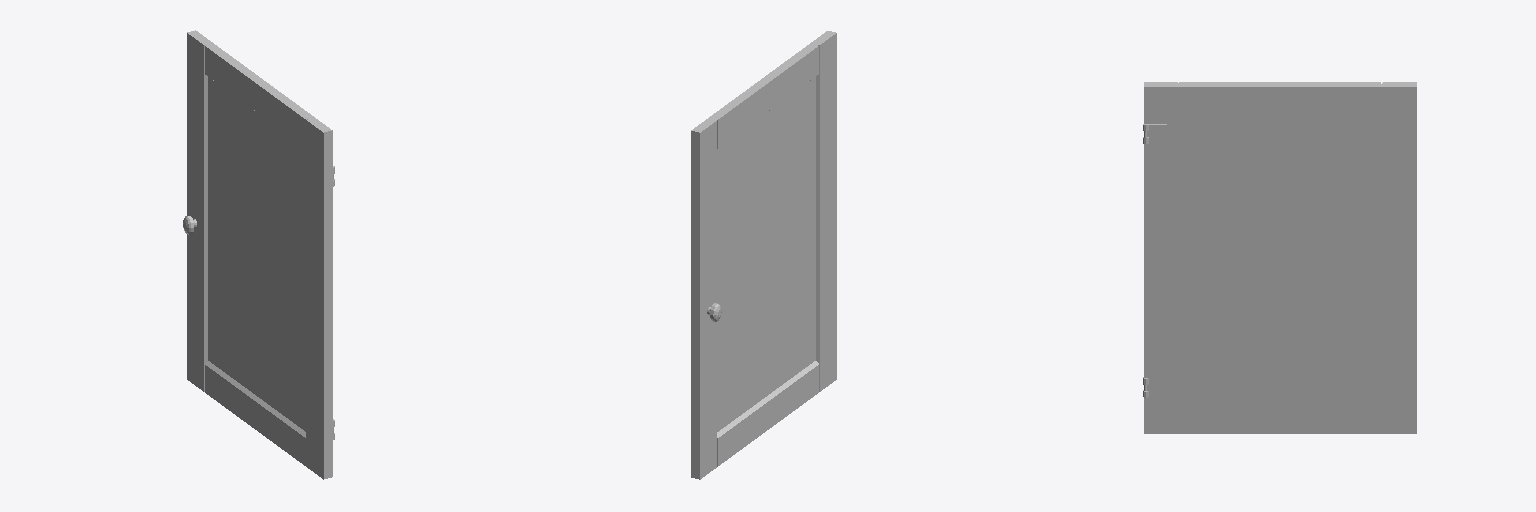
The model's file is CabinetDoor.obj.
The picture shows the model from 3 angles: view 1: azimuth 30°, elevation 25°; view 2: azimuth 150°, elevation 25°; view 3: azimuth 270°, elevation 25°; orthographic projection.
Visible parts, largest first — view 1: SM_Cabinet_Door; view 2: SM_Cabinet_Door; view 3: SM_Cabinet_Door.
Boxes of the visible parts, x1=… form: SM_Cabinet_Door: x1=183, y1=30, x2=334, y2=479; SM_Cabinet_Door: x1=691, y1=31, x2=836, y2=479; SM_Cabinet_Door: x1=1143, y1=82, x2=1416, y2=433.
Bounding box in the file's own units: 0.0479 × 0.6924 × 0.4954.